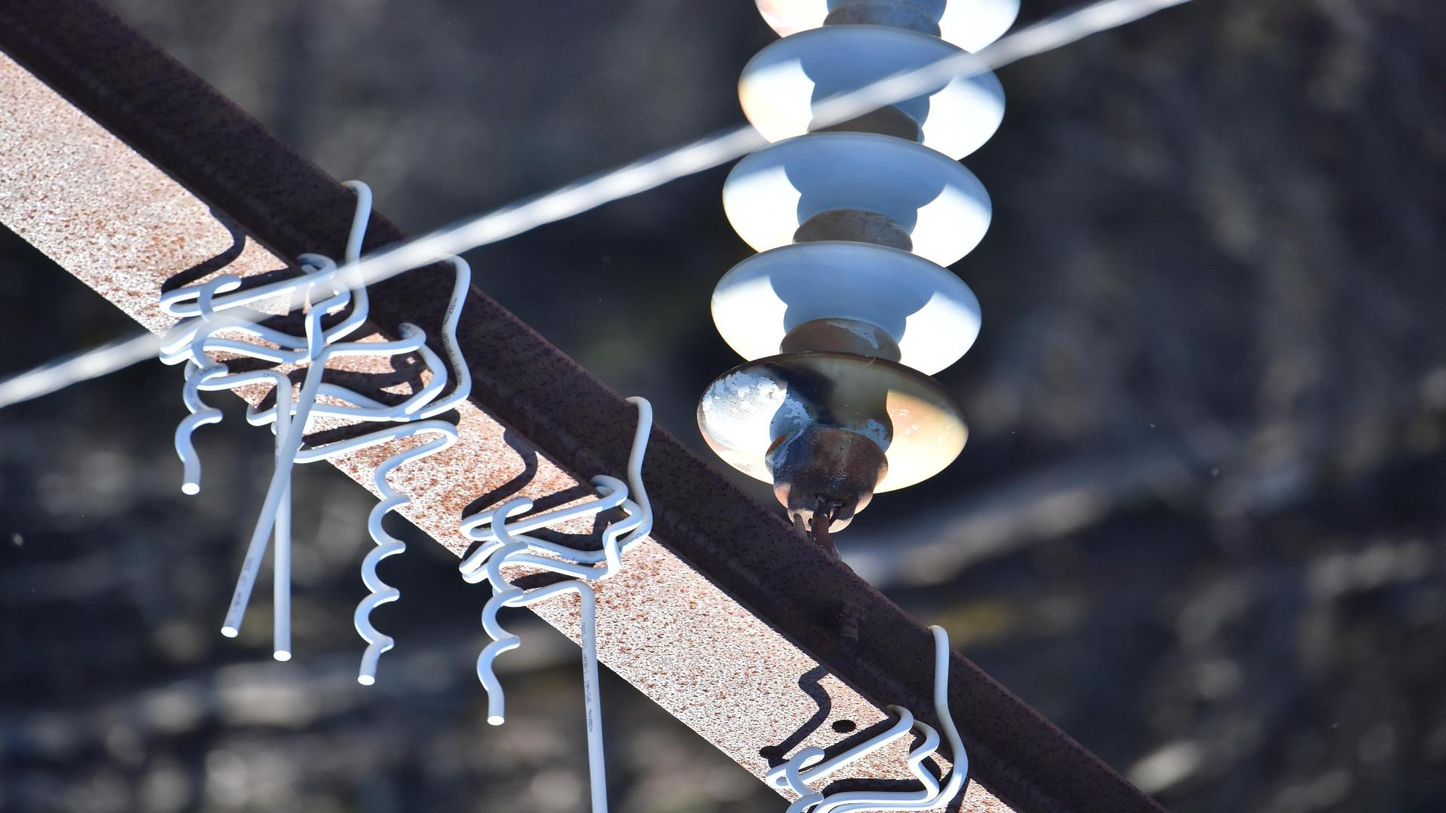insulator: (693, 1, 1025, 501)
insulator_flashover: (695, 361, 817, 469)
